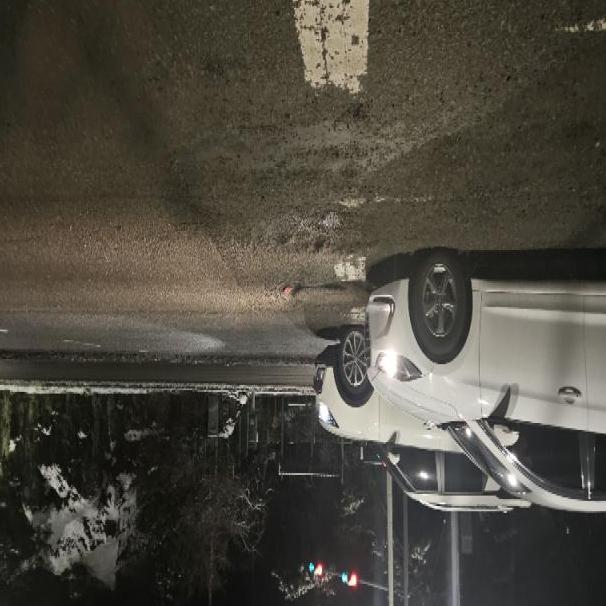pothole: (256, 195, 354, 304)
